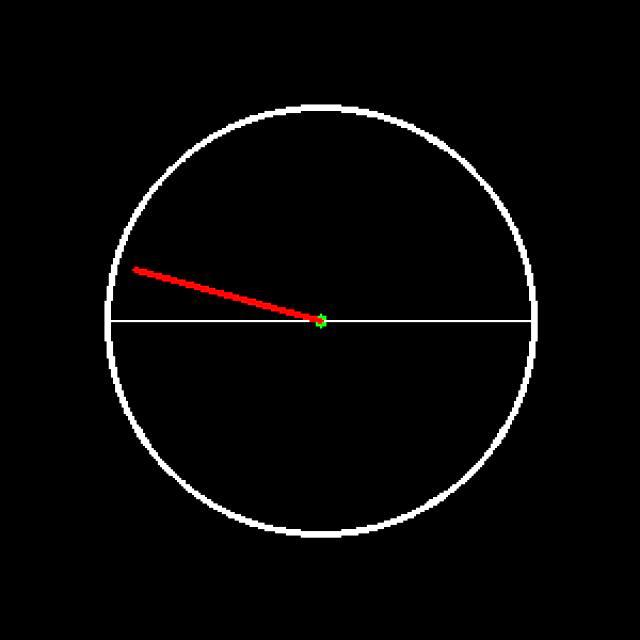Needle_Tip: (120, 248, 162, 295)
Needle_base: (285, 299, 358, 361)
